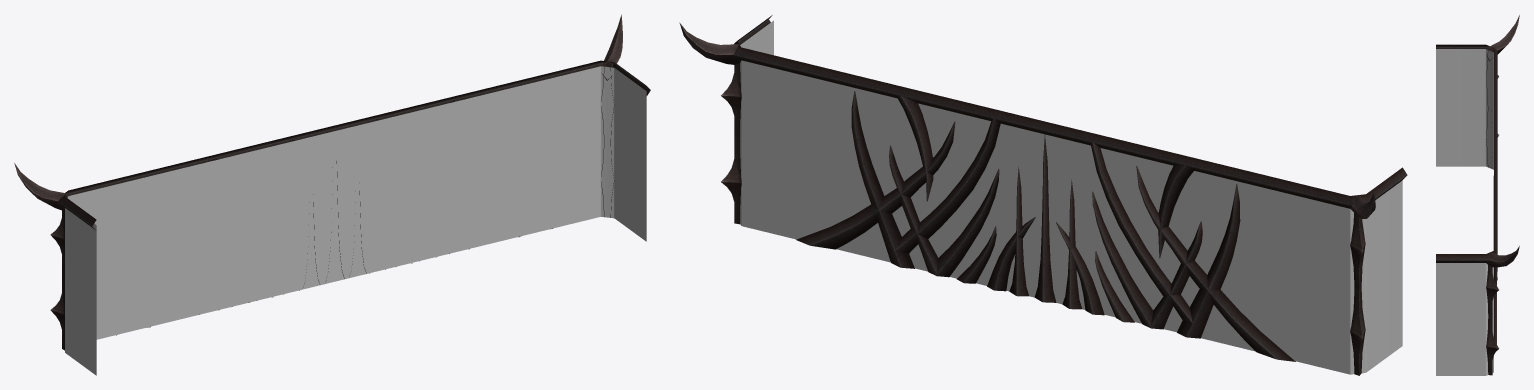
File: lower_city_lift_01_high_wall_middle.fbx
3 renders of one model, left to right at view 1: azimuth 30°, elevation 25°; view 2: azimuth 150°, elevation 25°; view 3: azimuth 270°, elevation 25°, orthographic. The views are drawn at different scales.
Visible parts, largest first — view 1: lower_city_lift_01_high_wall_middle; view 2: lower_city_lift_01_high_wall_middle; view 3: lower_city_lift_01_high_wall_middle.
Part boxes in pixels (<box>): lower_city_lift_01_high_wall_middle: <box>14,14,650,375</box>; lower_city_lift_01_high_wall_middle: <box>679,15,1407,375</box>; lower_city_lift_01_high_wall_middle: <box>1436,15,1519,375</box>.
Bounding box in the file's own units: 21.11 × 6.04 × 3.24.
